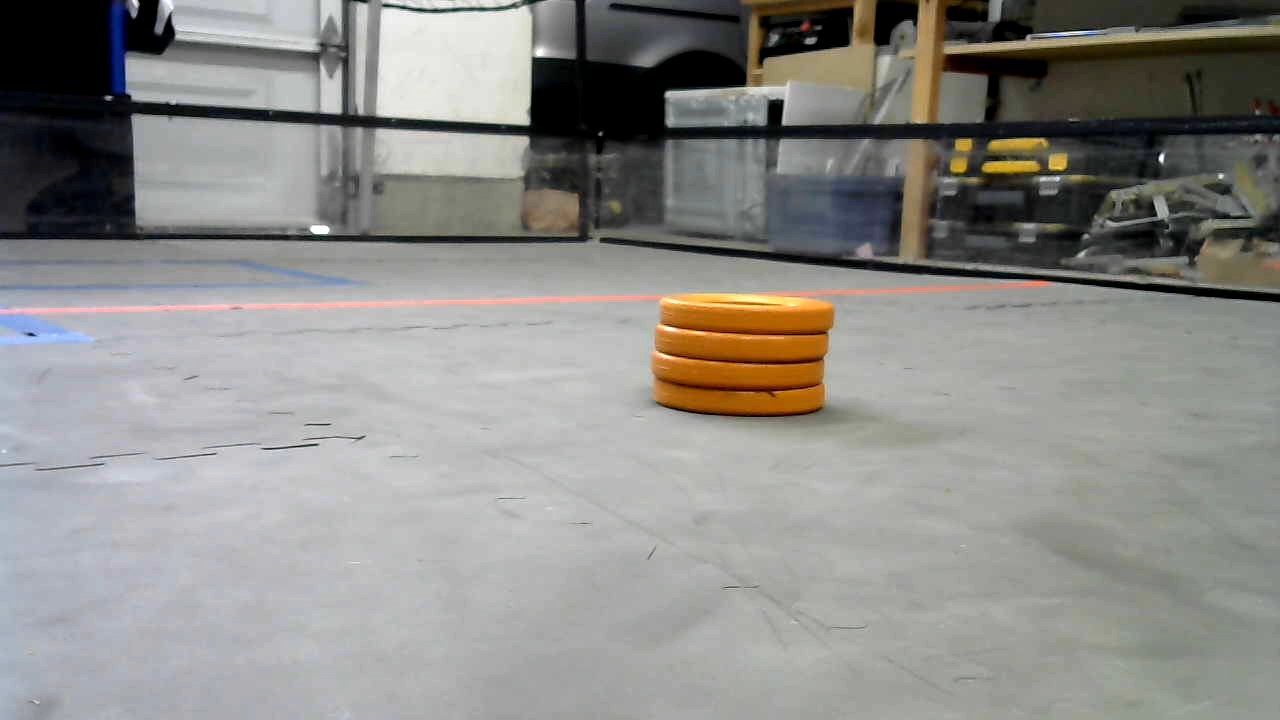FourStack: (651, 292, 834, 419)
